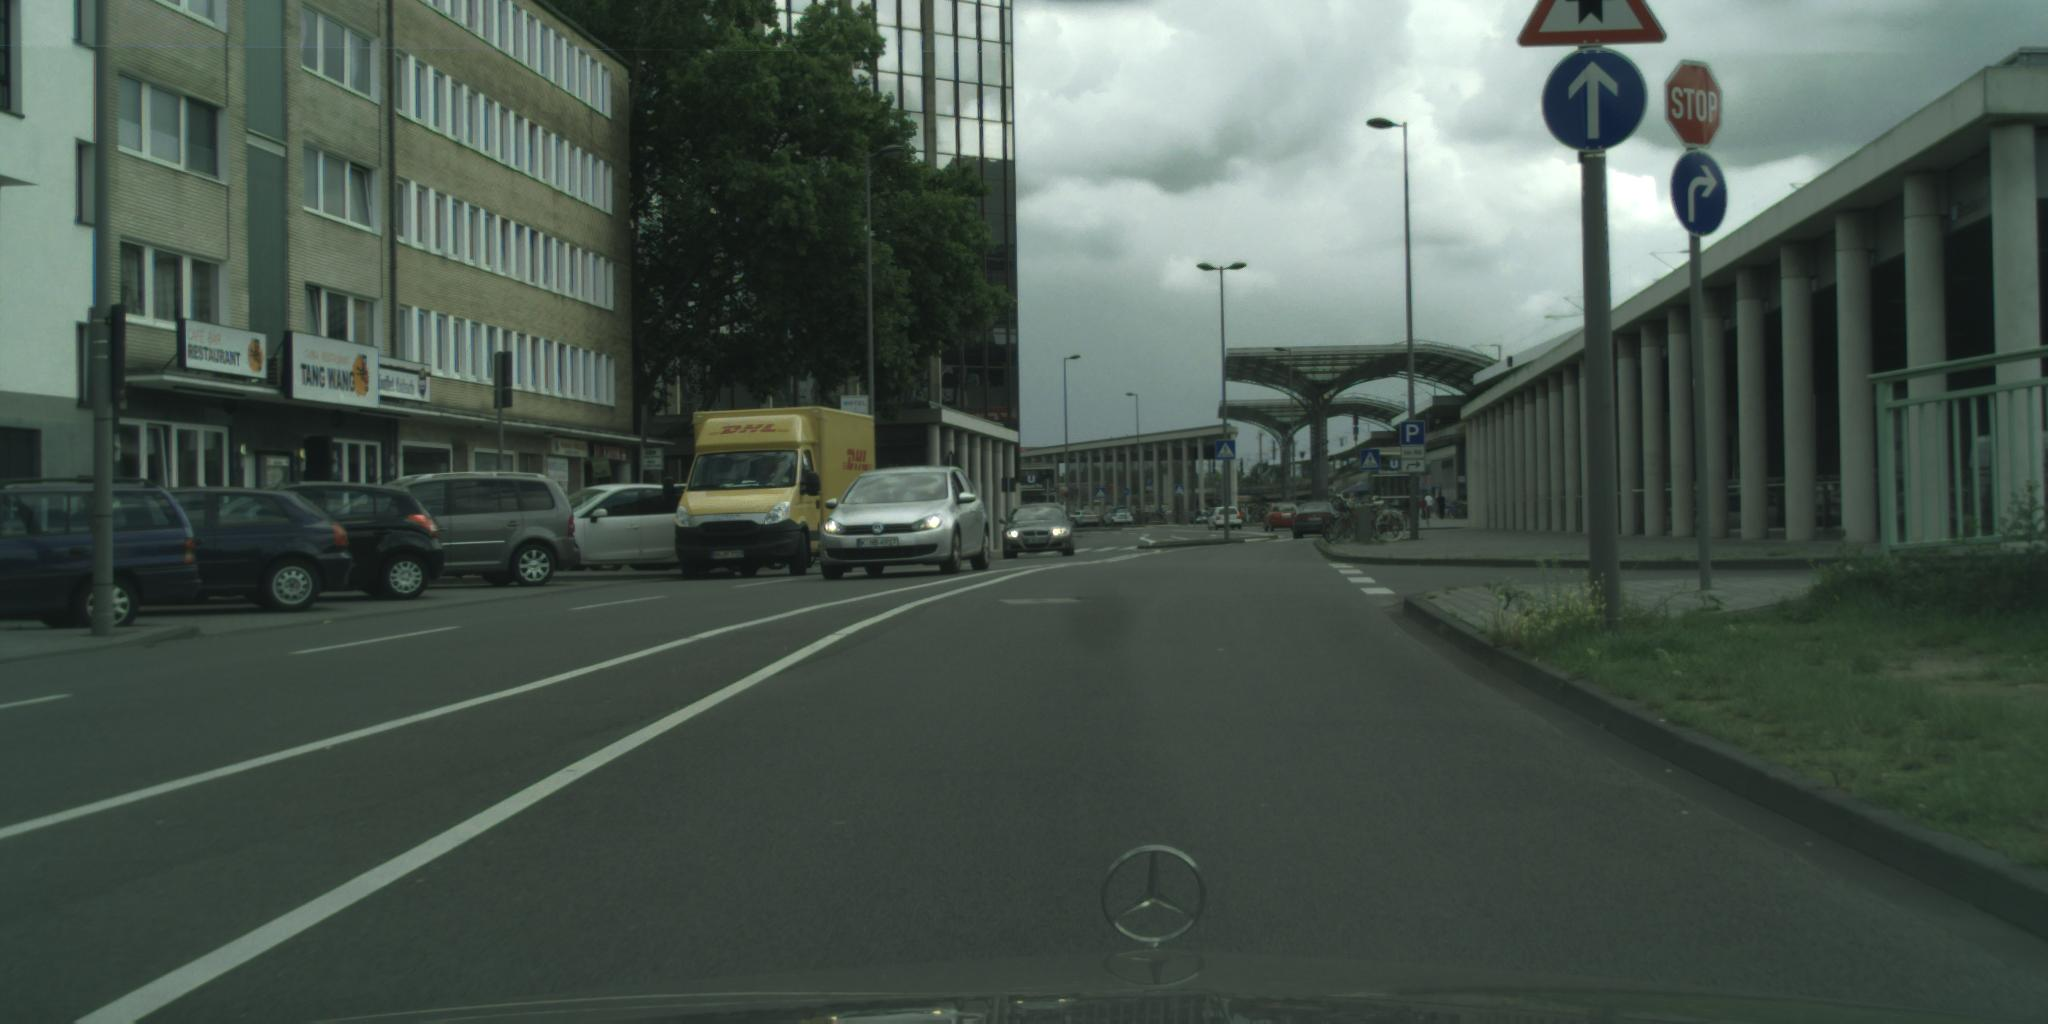car: (64, 485, 358, 614), (1, 477, 200, 636), (191, 481, 445, 603), (355, 473, 585, 589), (818, 465, 993, 583), (552, 483, 699, 567), (1000, 503, 1078, 562), (1293, 502, 1343, 539), (1264, 502, 1301, 536), (1209, 503, 1243, 533), (1097, 504, 1138, 529), (1067, 508, 1102, 532)
truck: (664, 408, 884, 583)
